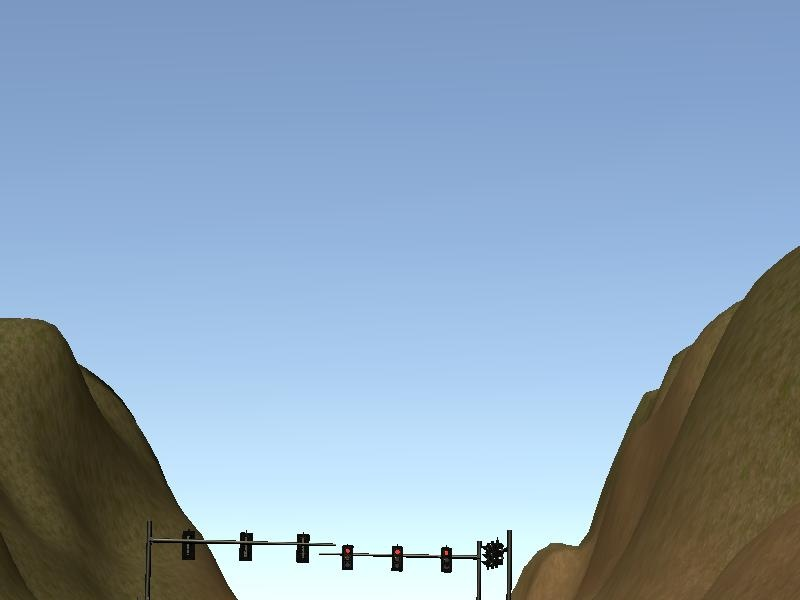traffic_light_red: (334, 544, 474, 573)
